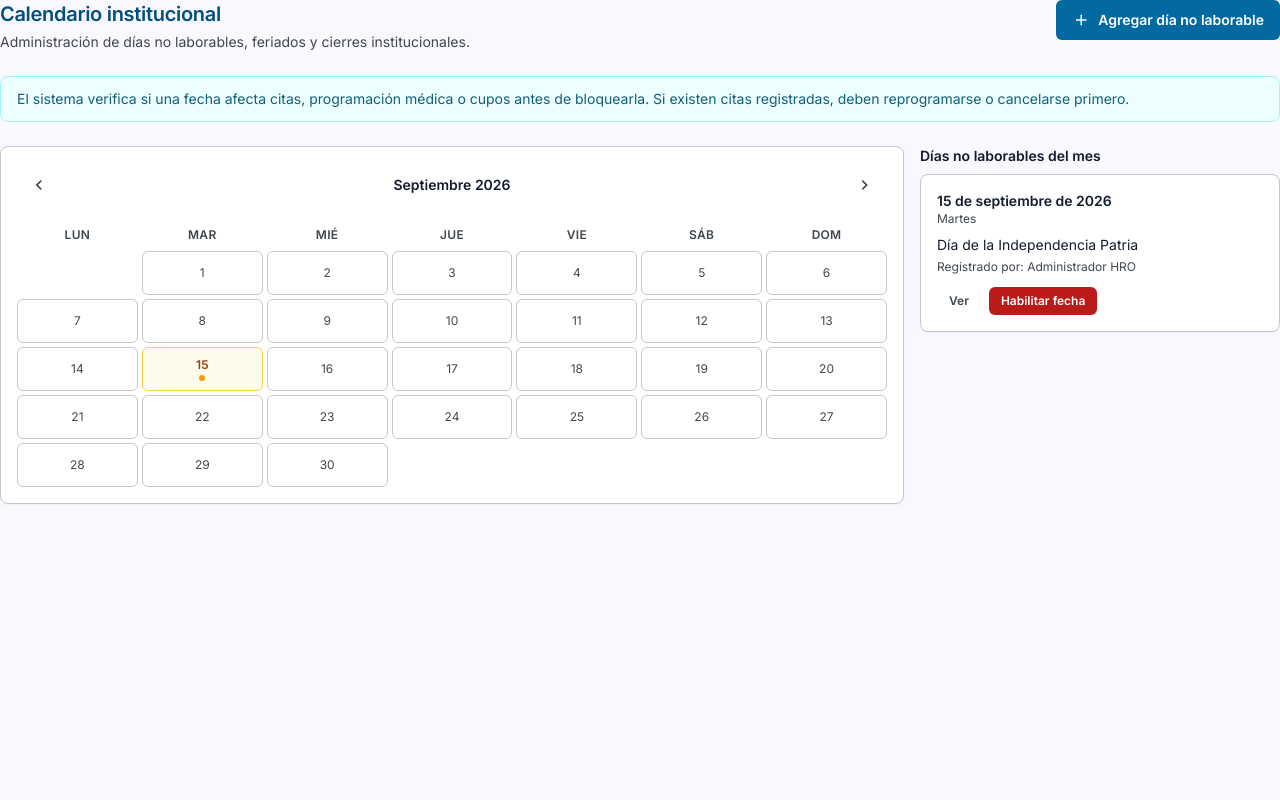
Test: CalendarioPage › abre el modal de alta desde un día libre con la fecha precargada
What coordinates should you click on to do the following:
click the button named "Registrar día no laborable el 2 de septiembre de 2026"
I would click on:
 (327, 273)
Its box is 267,251 -> 388,295.
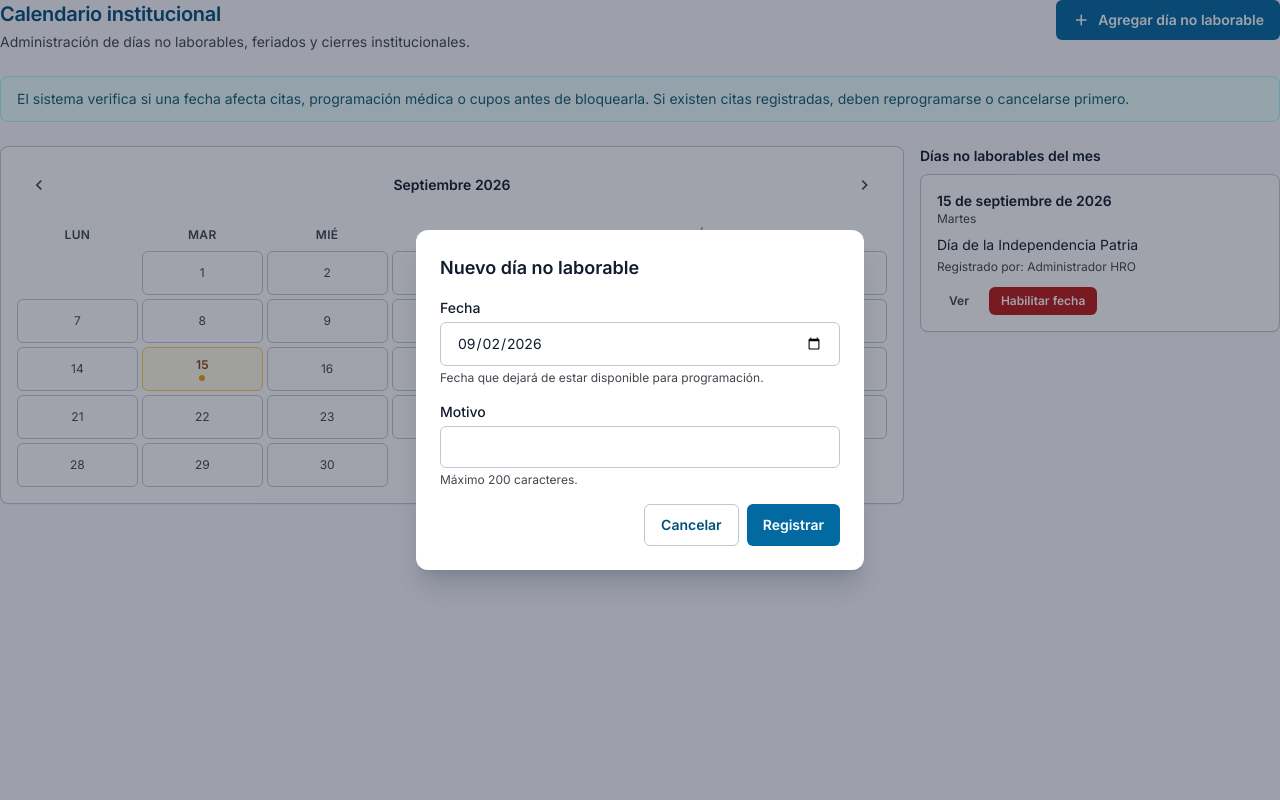
Result: the heading "Nuevo día no laborable" is shown at 440,257 -> 639,278
Result: the date field labelled "Fecha" holds "2026-09-02" at 440,322 -> 840,366
